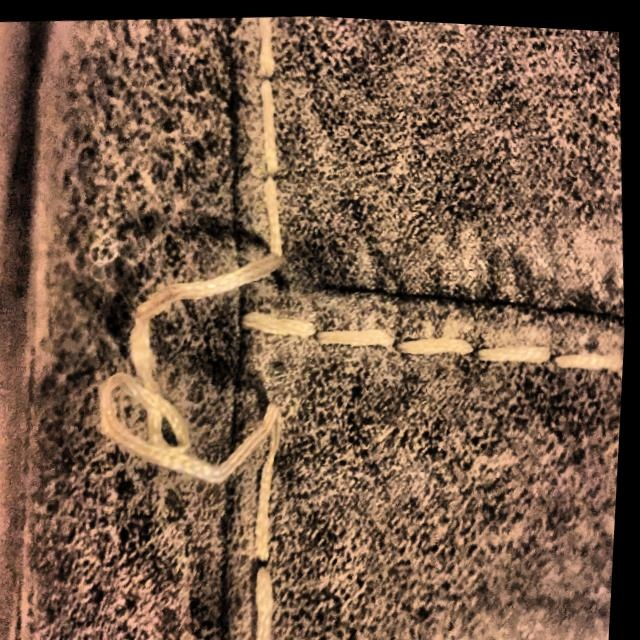Stitch: (21, 122, 395, 570)
